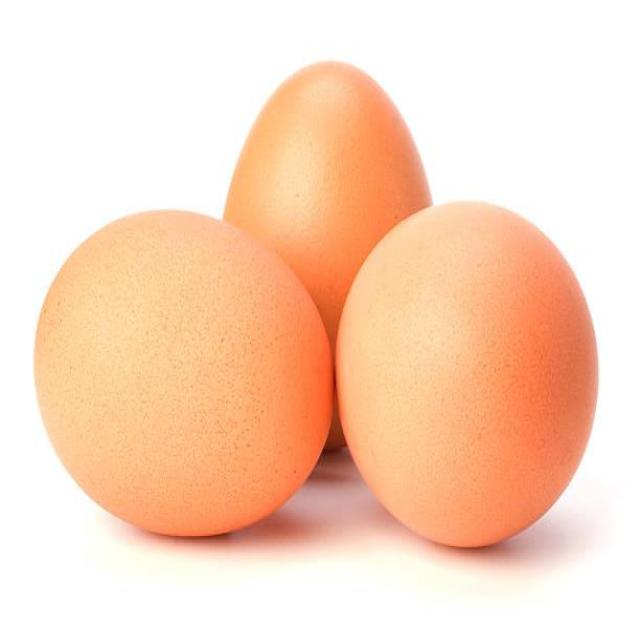Egg: (33, 211, 332, 535), (338, 205, 596, 544), (223, 63, 431, 338)
